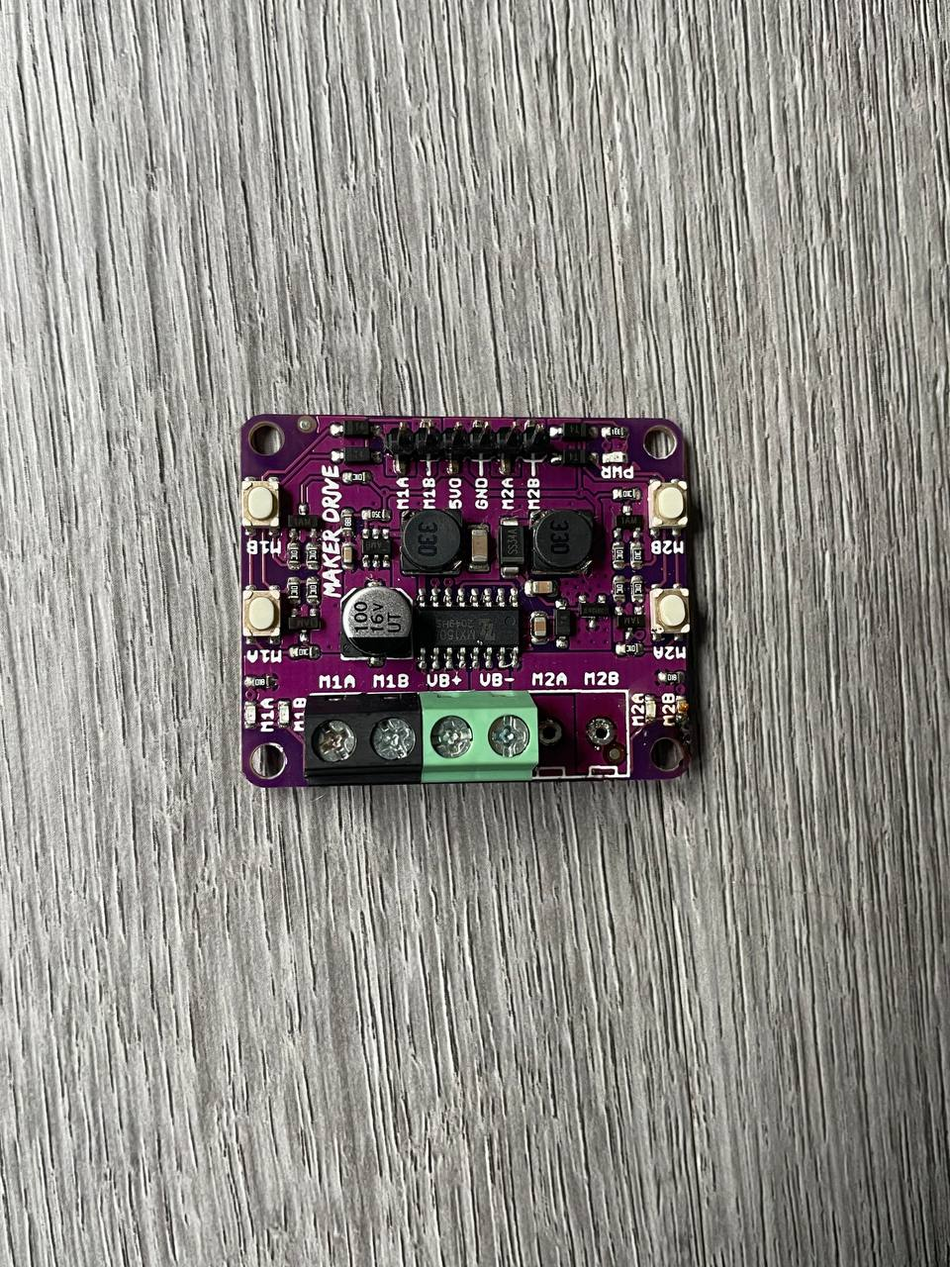missing_tb: (537, 670, 633, 780)
